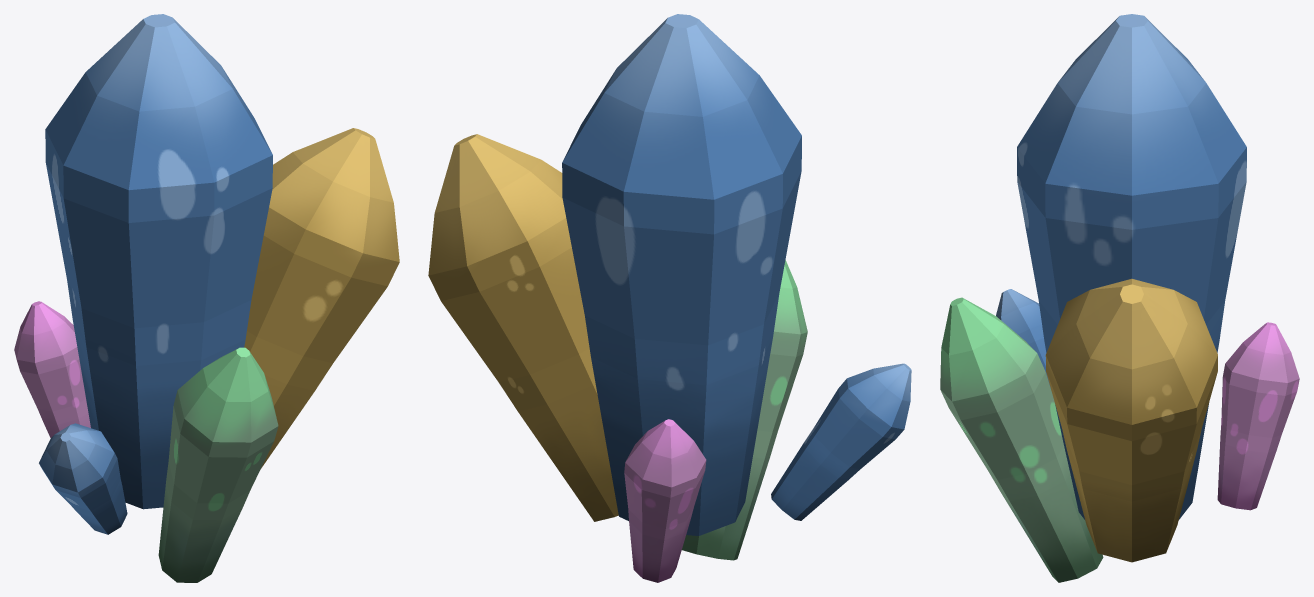
The model's file is crystal_update.fbx.
The picture shows the model from 3 angles, left to right: view 1: azimuth 30°, elevation 25°; view 2: azimuth 150°, elevation 25°; view 3: azimuth 270°, elevation 25°; orthographic projection. The views are drawn at different scales.
Parts seen in each view (by area): view 1: polySurface5; view 2: polySurface5; view 3: polySurface5.
Boxes of the visible parts, x1,y1,x2,y2 form: polySurface5: (14,14,399,582); polySurface5: (428,14,911,582); polySurface5: (940,14,1299,582).
Size of the model in its own units: 2.38 by 3.16 by 1.85.
Materials: 1 (1 with a texture image).
